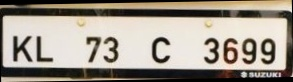character: (12, 34, 33, 64), (151, 36, 171, 63), (35, 34, 54, 62), (102, 35, 119, 64), (259, 36, 276, 65), (85, 34, 101, 63), (222, 37, 239, 64), (202, 37, 219, 63), (240, 38, 257, 63)
